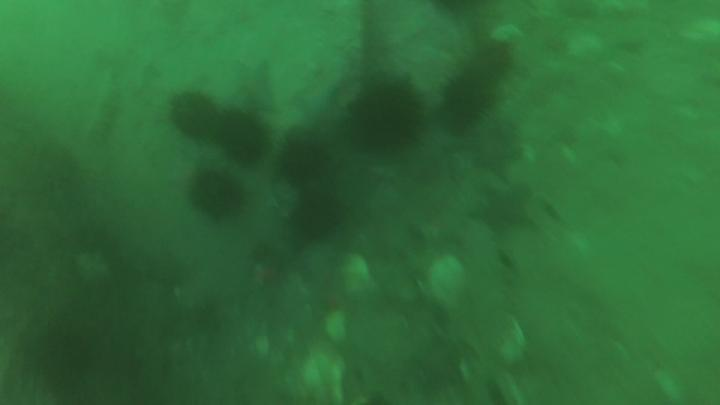holothurian: (473, 180, 531, 240), (293, 76, 344, 129), (229, 66, 274, 111), (475, 128, 519, 171)
starfish: (354, 81, 422, 144), (289, 195, 344, 244), (216, 109, 264, 162), (282, 136, 331, 186), (188, 173, 240, 217), (442, 76, 486, 124), (172, 94, 217, 140), (476, 40, 511, 73)
